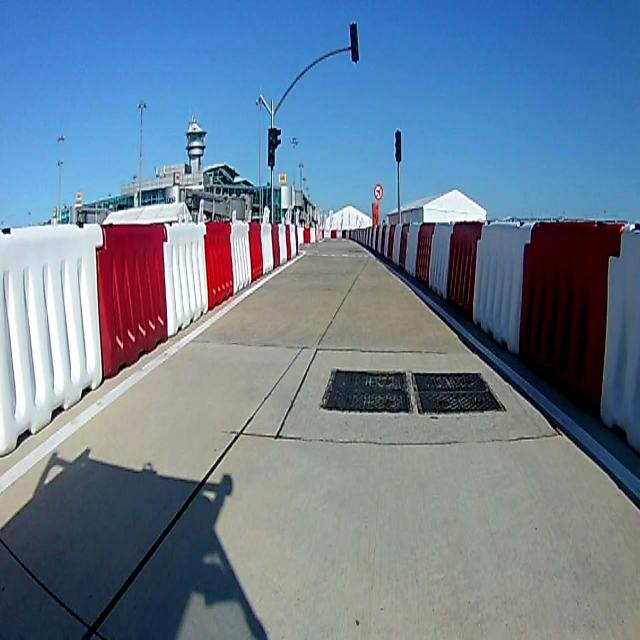soladonulmez: (373, 184, 383, 201)
